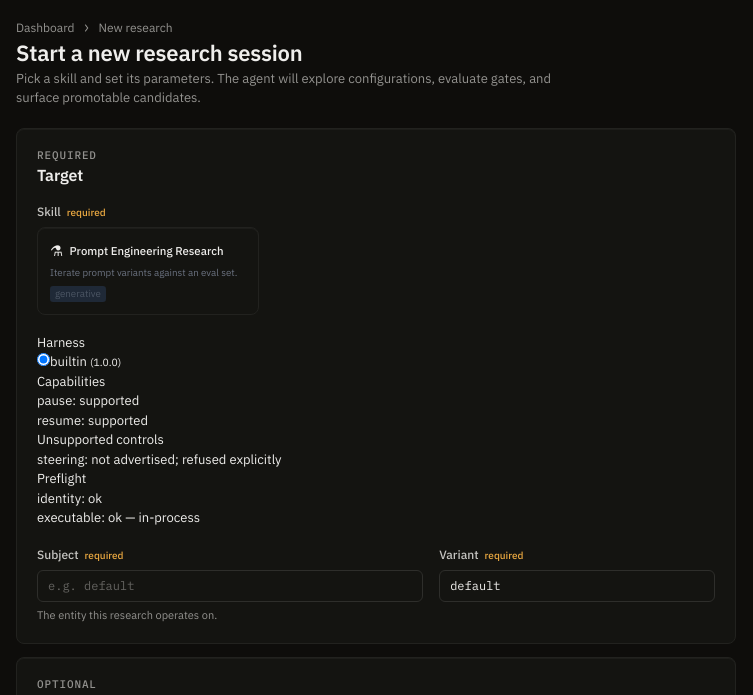
Scenario: NewResearch start payload (P7-015) › cannot submit without a selected skill
The image size is (753, 695).
Click the text "Prompt Engineering Research": (147, 252) 70,244 -> 224,260
(page scrolled)
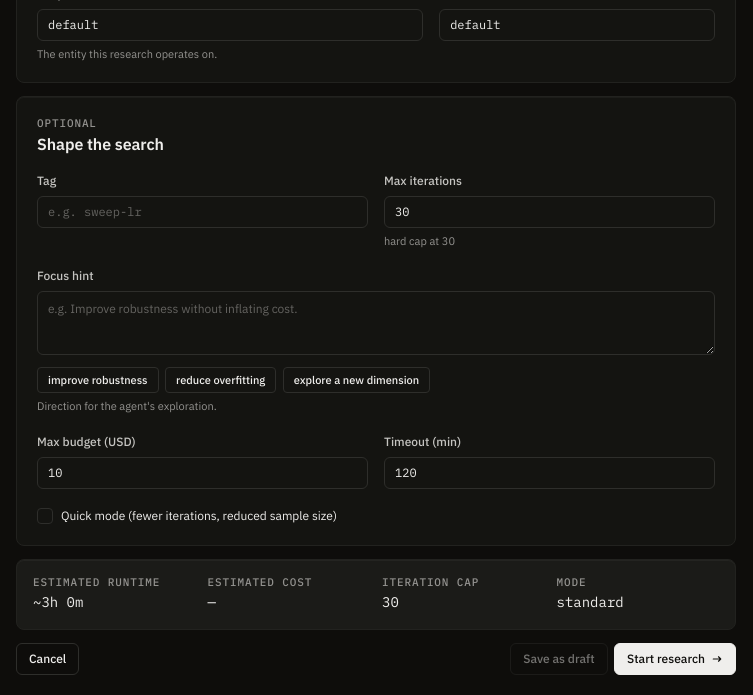
Expected: the button "Start research" is enabled, 614,643 -> 736,675
